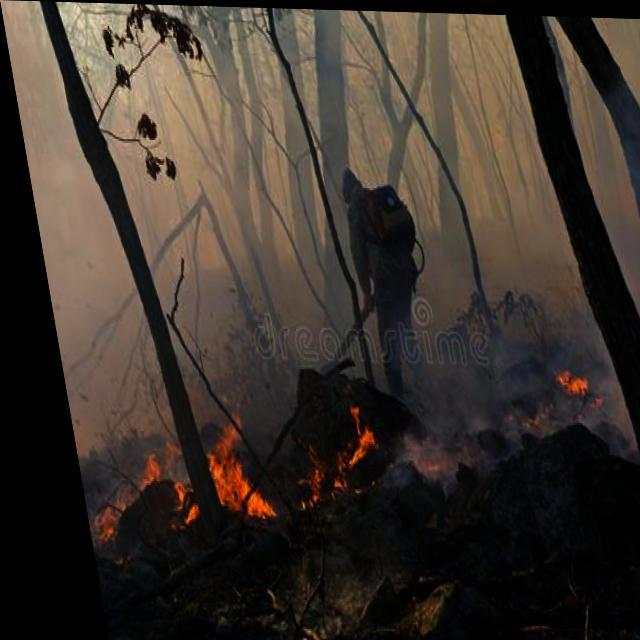Fire: (62, 399, 261, 553), (271, 398, 373, 515), (498, 359, 592, 430)
